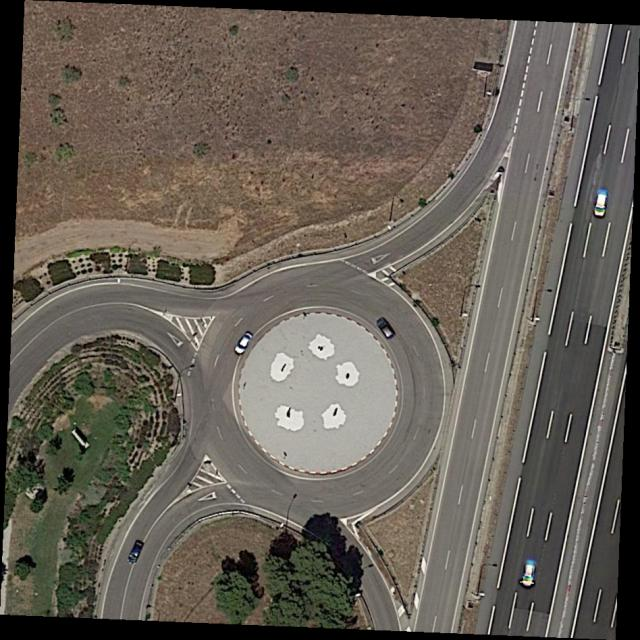small-vehicle: (234, 331, 254, 357), (376, 317, 396, 339), (128, 540, 145, 565), (593, 190, 608, 217), (521, 563, 537, 587)
